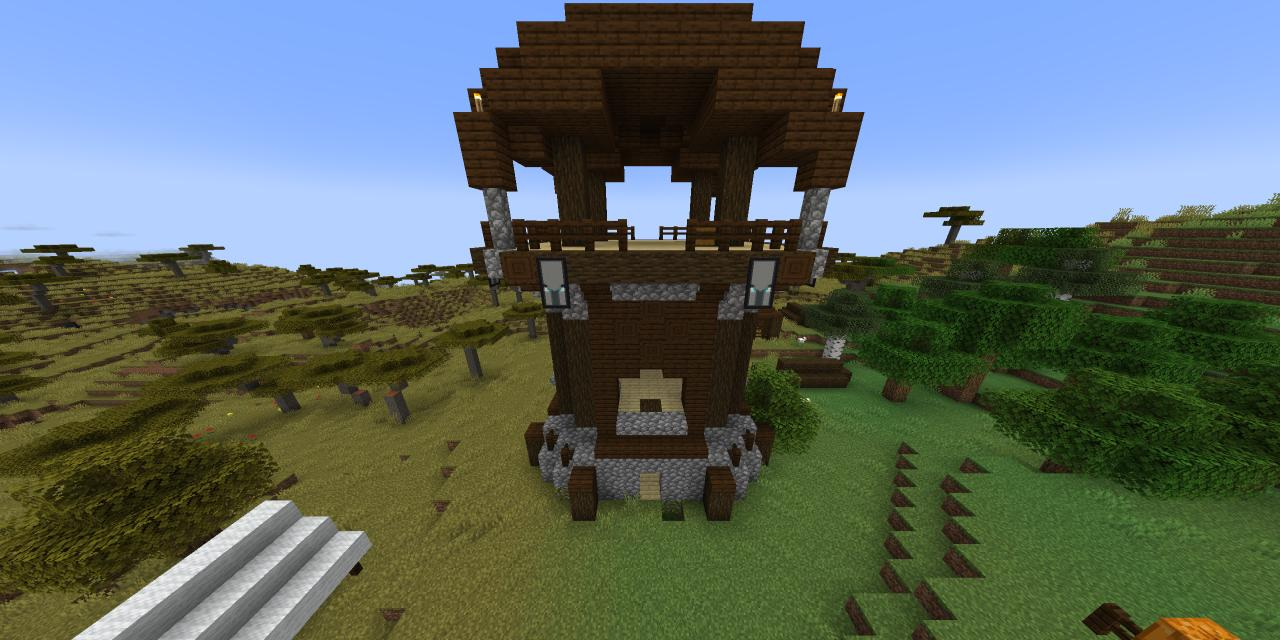pillager outpost: (432, 0, 874, 538)
